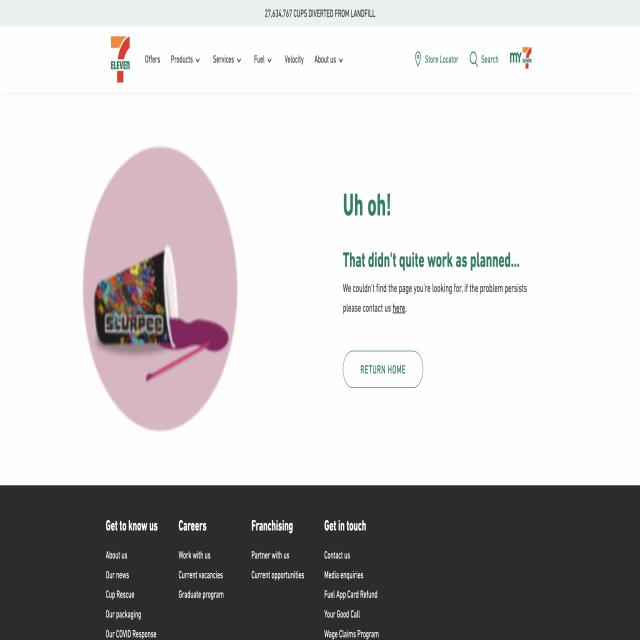Logo: (102, 29, 138, 94)
Navigation: (142, 43, 590, 78)
